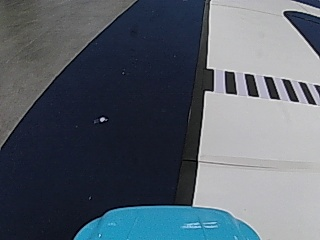CrossWalk: (207, 67, 315, 103)
